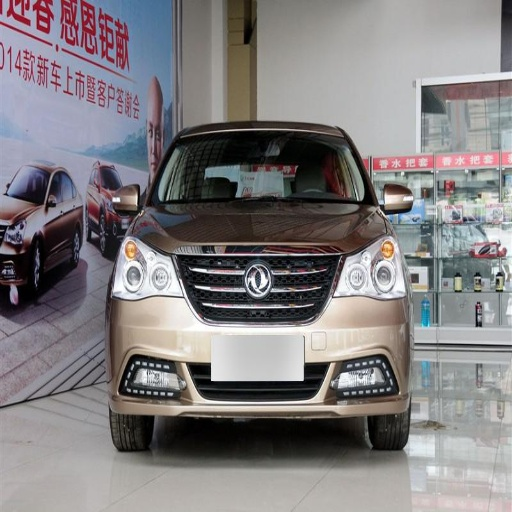front_bumper: (107, 254, 408, 419)
front_right_light: (114, 237, 179, 298)
hood: (137, 203, 384, 254)
